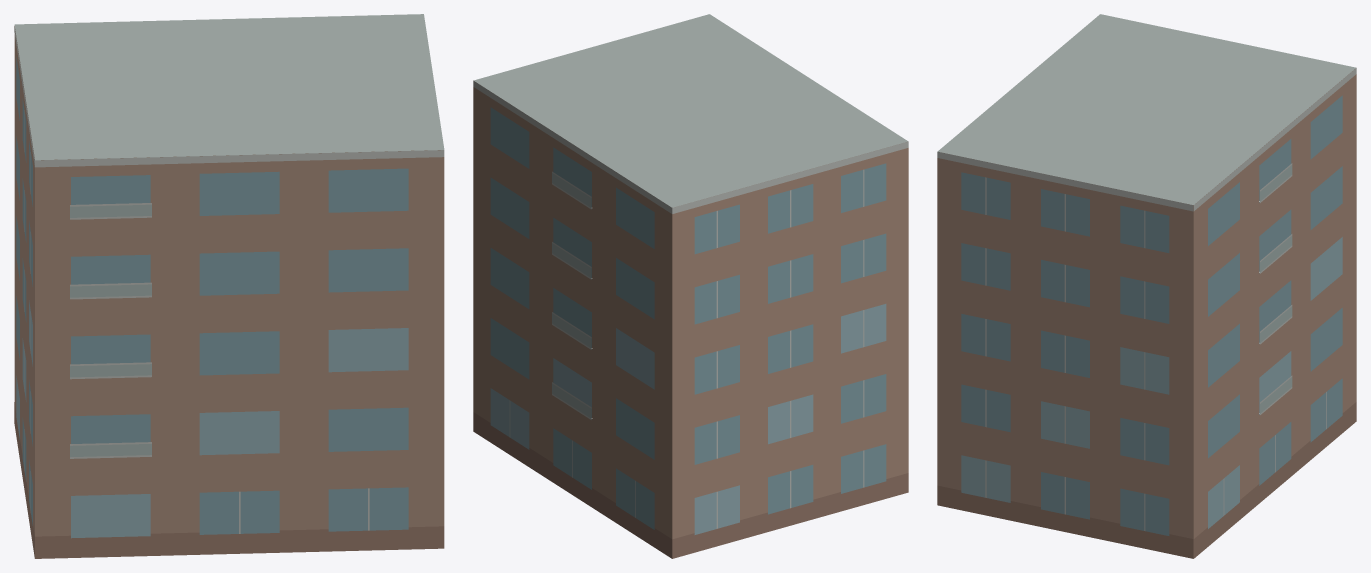
The model's file is survey-upis-32957300.glb.
The picture shows the model from 3 angles, left to right: view 1: azimuth 30°, elevation 25°; view 2: azimuth 150°, elevation 25°; view 3: azimuth 270°, elevation 25°; orthographic projection. The views are drawn at different scales.
Parts seen in each view (by area): view 1: survey-upis-32957300.tmp; view 2: survey-upis-32957300.tmp; view 3: survey-upis-32957300.tmp.
Part boxes in pixels (<box>): survey-upis-32957300.tmp: <box>14,14,444,558</box>; survey-upis-32957300.tmp: <box>473,14,908,558</box>; survey-upis-32957300.tmp: <box>937,14,1356,558</box>.
Size of the model in its own units: 15.78 by 13.6 by 14.62.
